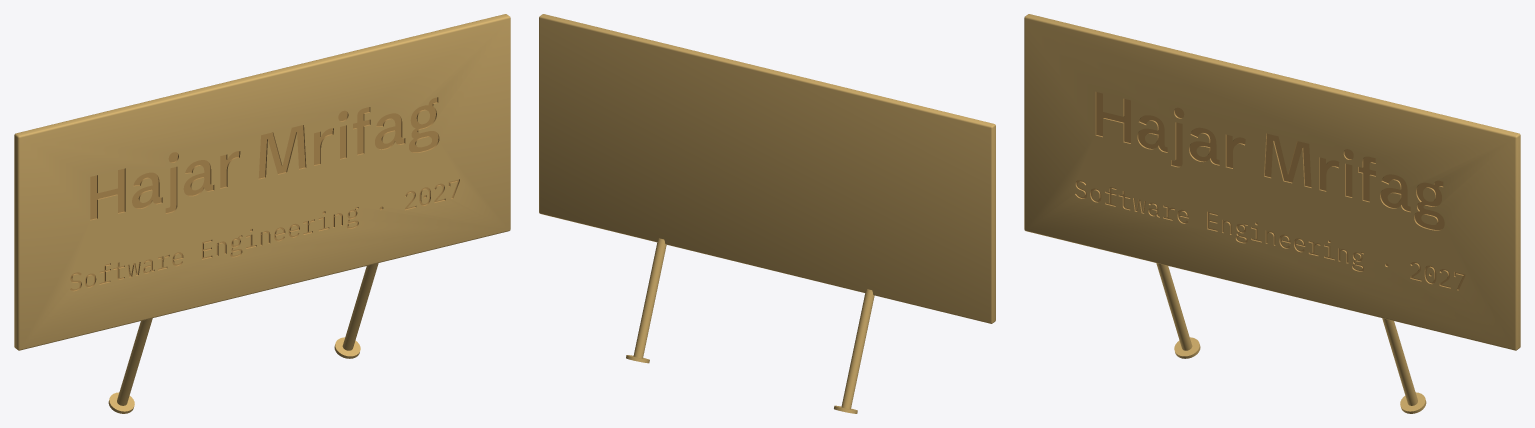
File: nameplate.glb
3 views of the same model, side by side, from view 1: azimuth 30°, elevation 25°; view 2: azimuth 150°, elevation 25°; view 3: azimuth 330°, elevation 25° (orthographic). The views are drawn at different scales.
Parts seen in each view (by area): view 1: Nameplate; view 2: Nameplate; view 3: Nameplate.
Part boxes in pixels (x1,y1,x2,y2): Nameplate: [14, 14, 510, 413]; Nameplate: [539, 14, 995, 413]; Nameplate: [1024, 14, 1520, 413].
Size of the model in its own units: 0.48 by 0.3048 by 0.0616.
